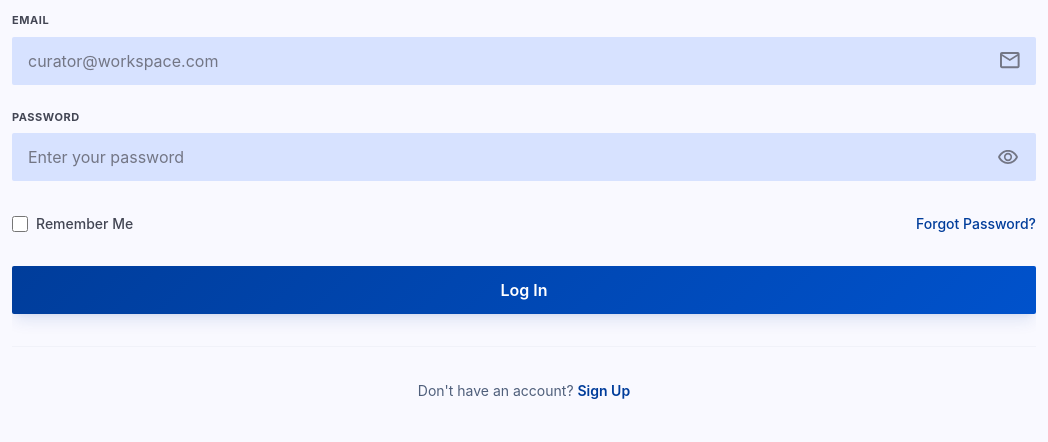
LoginForm › renders validation error and rejects before fetch for invalid email format
This screenshot has width=1048, height=442.
Type "invalid-email-address" into the field labelled "Email" at coordinates (524, 60), box x1=12 y1=36 x2=1036 y2=84
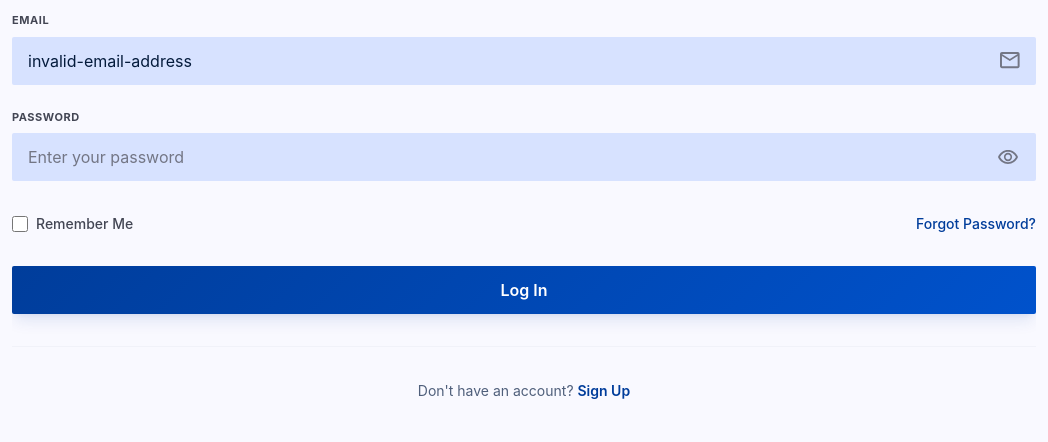
Type "validpassword123" into the password field labelled "Password" at coordinates (524, 157), box x1=12 y1=133 x2=1036 y2=181
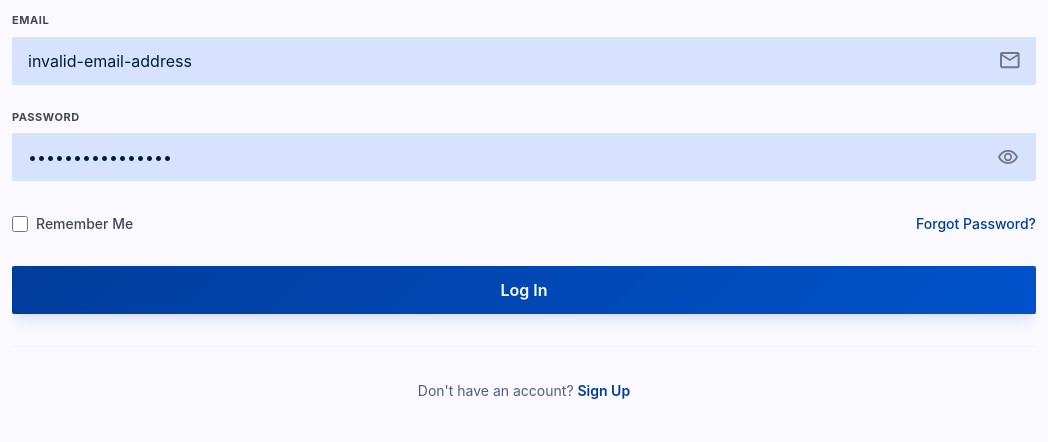
Click the button "Log In" at coordinates (524, 290), box x1=12 y1=266 x2=1036 y2=314
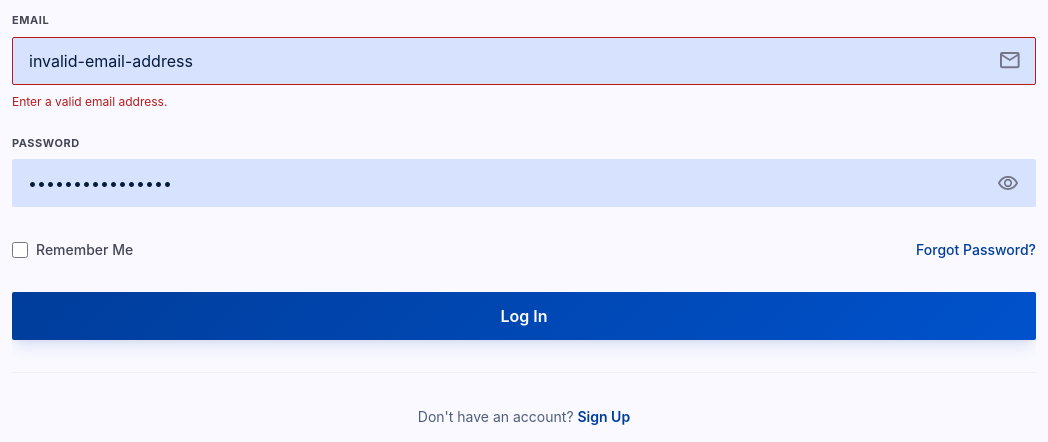
Expected: the text "Enter a valid email address." is shown, x1=12 y1=94 x2=167 y2=108
